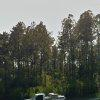Tree: (4, 13, 100, 82)
